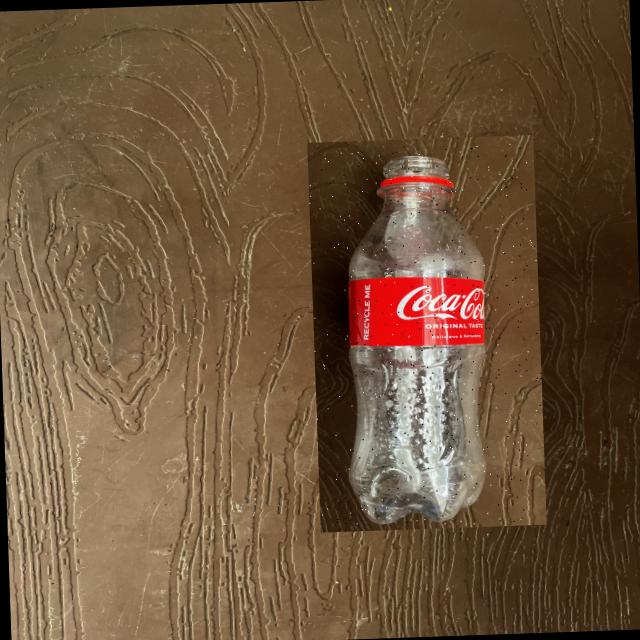REJECT: (307, 135, 546, 532)
